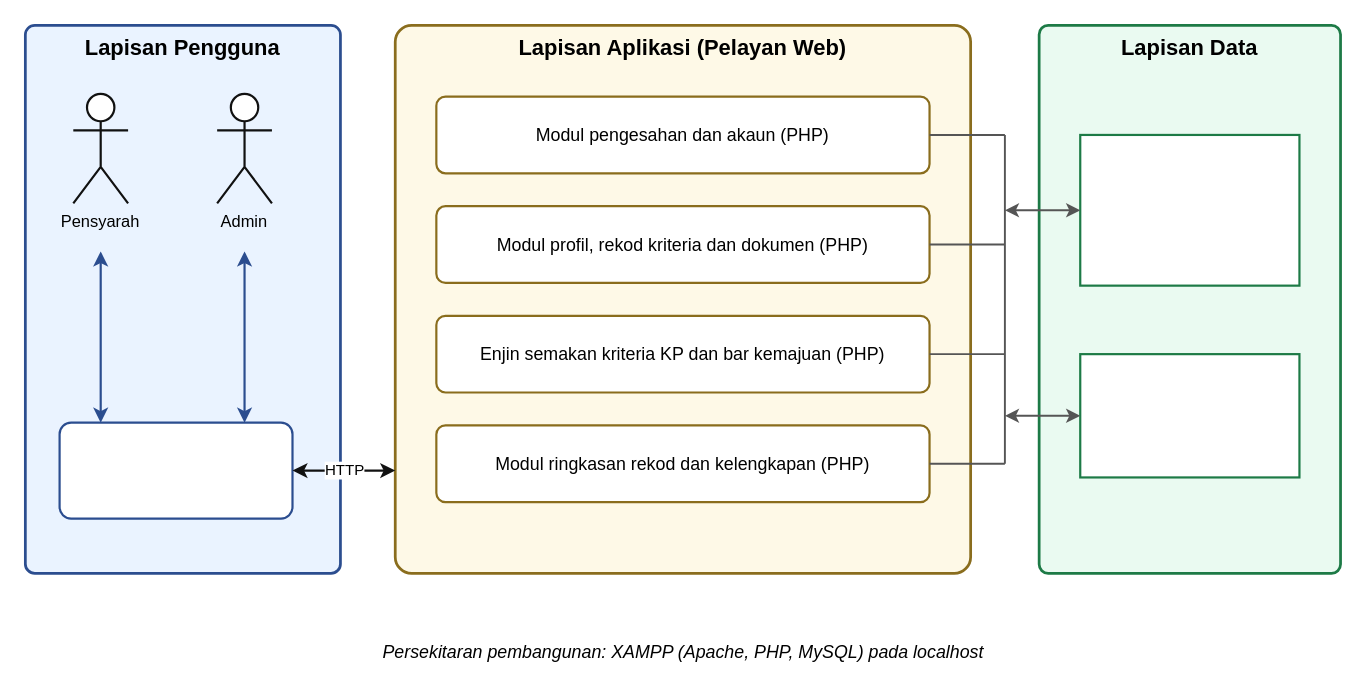
This 1365x689 diagram has some shape labels left out. The shapes that lost their labels are listed below. From the top down, each one's centre as x and y in pixels, then its label:
At [1189,209]: "Pangkalan data MySQL (10 jadual, phpMyAdmin)".
At [1189,415]: "Storan fail dokumen sokongan".
At [175,470]: "Pelayar web (HTML, CSS, JavaScript)".
